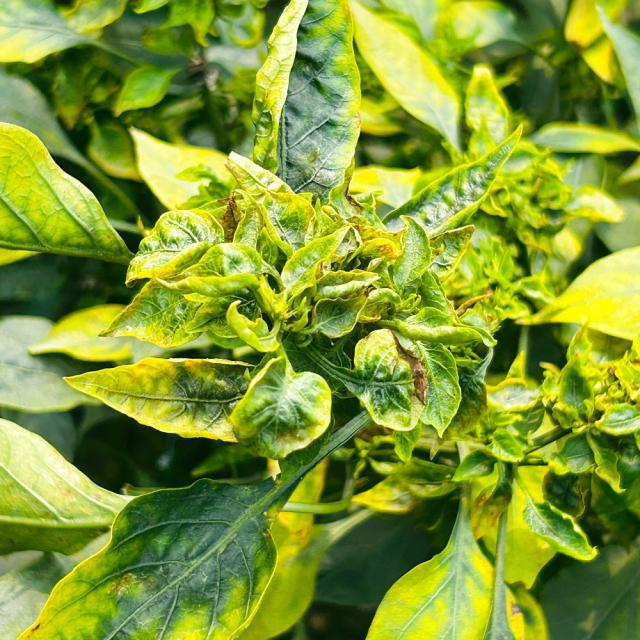Chilli_Leaf_Curl: (1, 1, 638, 638), (62, 138, 510, 462), (16, 474, 280, 639), (0, 120, 134, 266), (62, 354, 254, 443), (228, 349, 332, 460)
